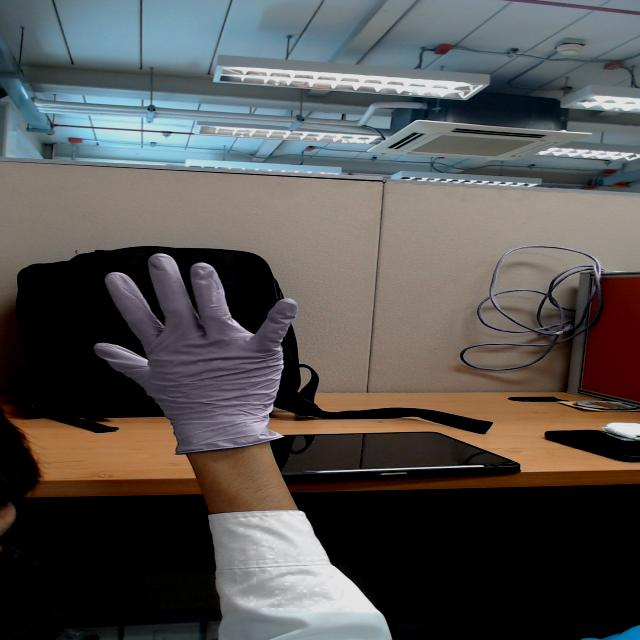glove: (58, 252, 316, 396)
